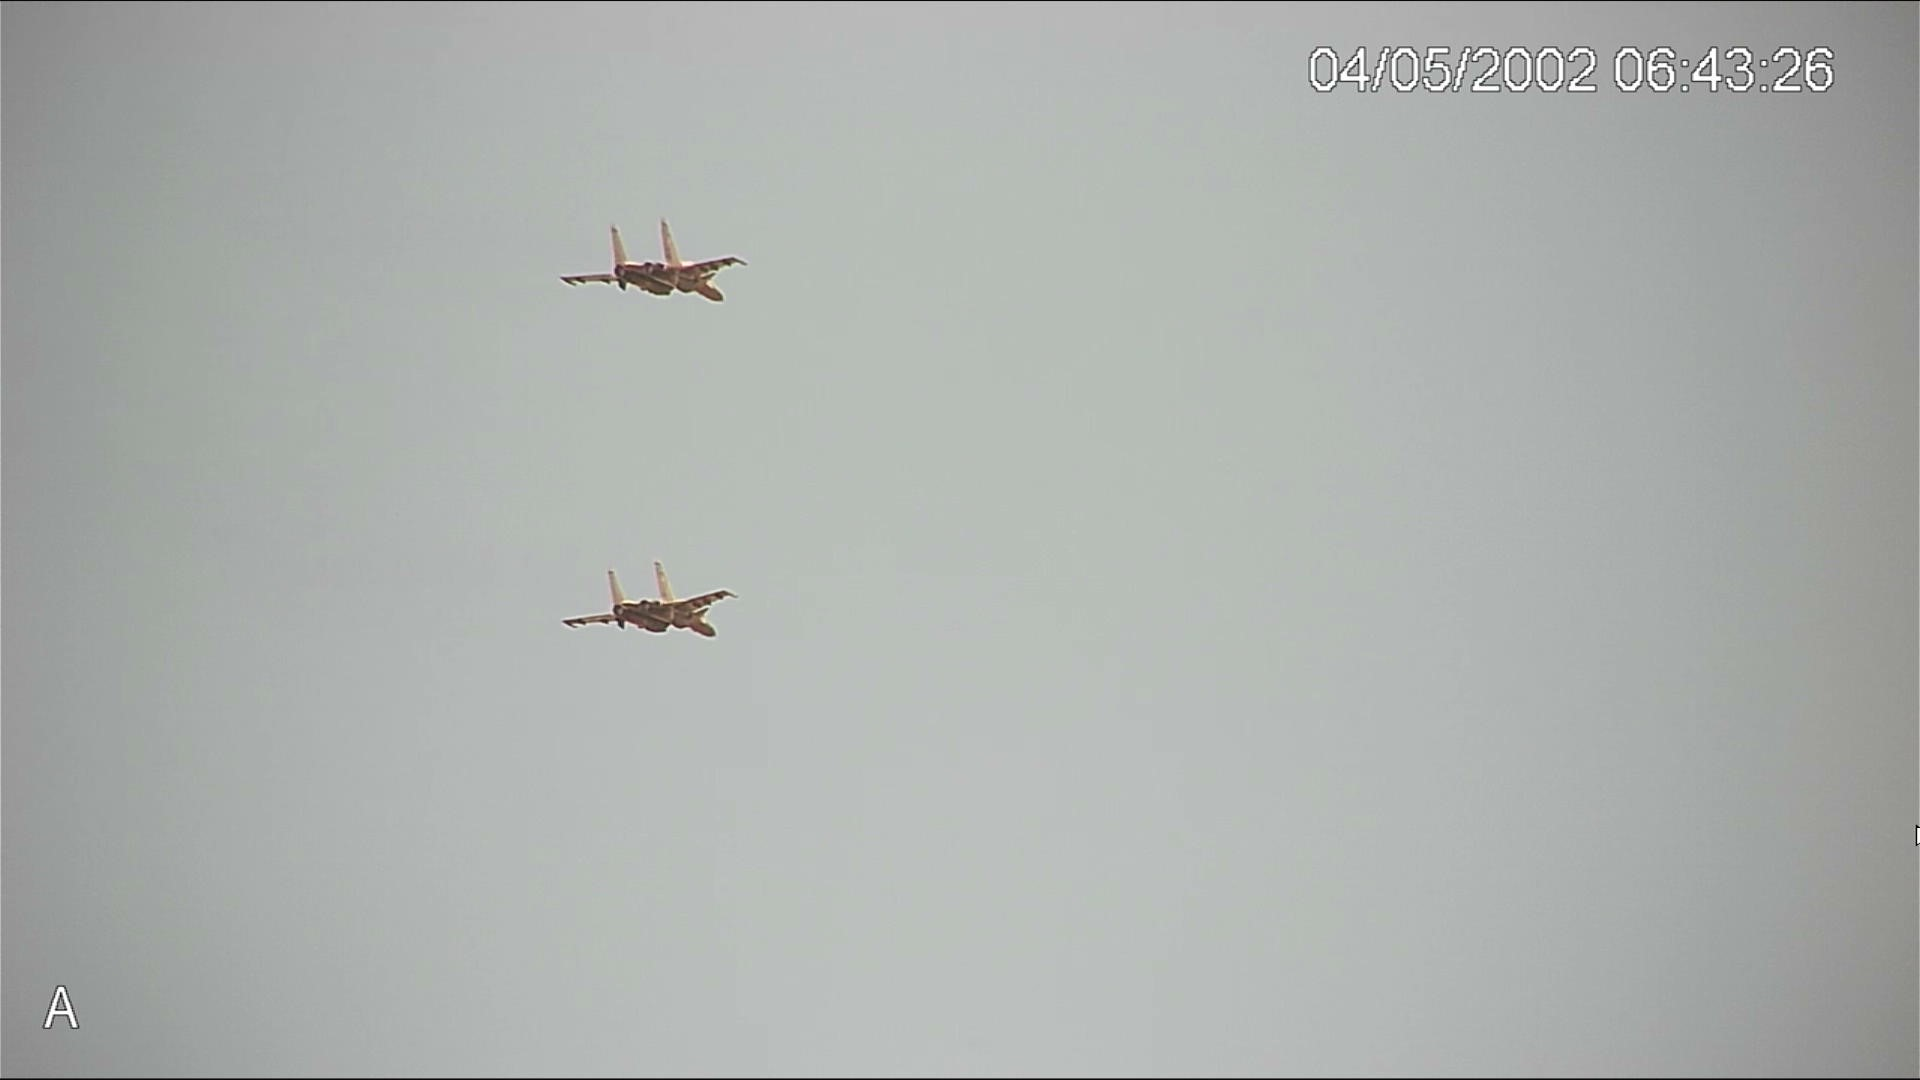SU_30: (556, 225, 745, 316), (555, 560, 731, 651)
